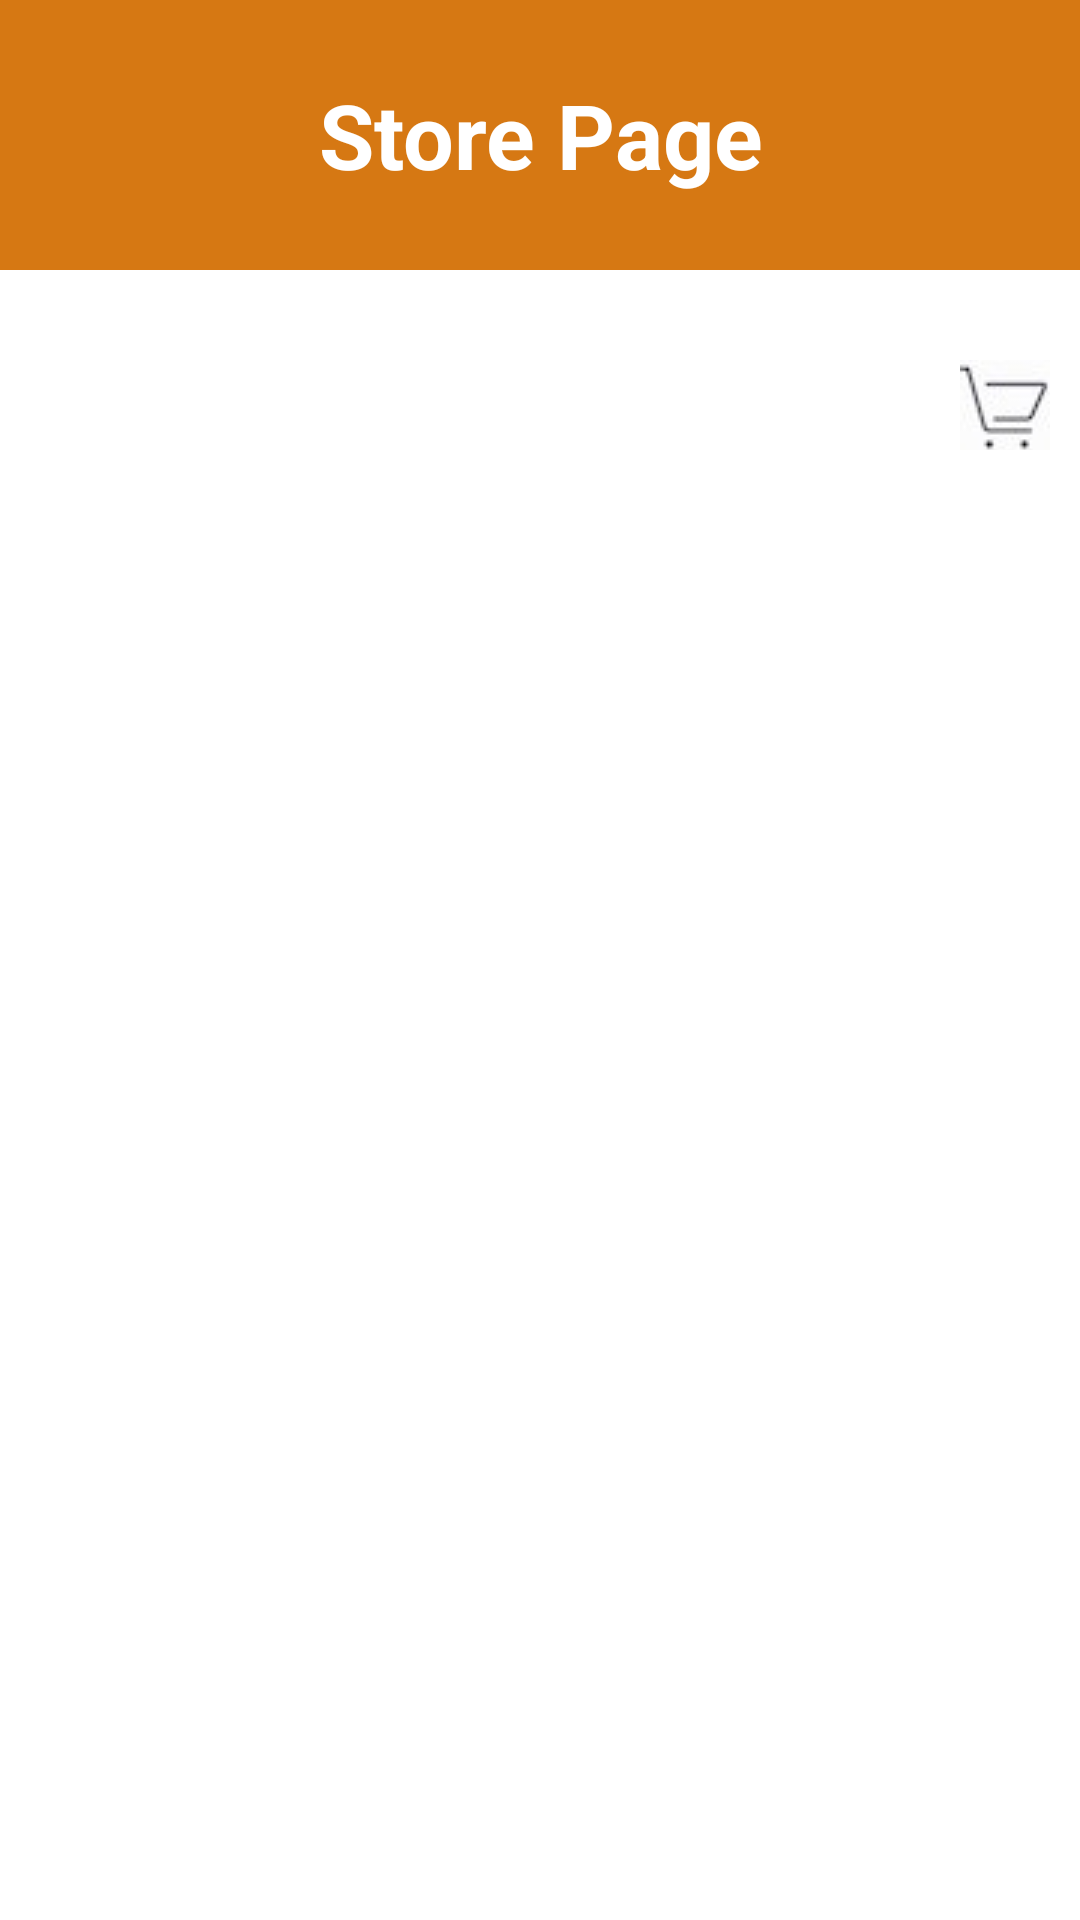

Screen size 1080px x 1920px. Icon name, then its box in pixels as BBox(x1, y1, x2, y2):
cart: BBox(960, 365, 1048, 450)
